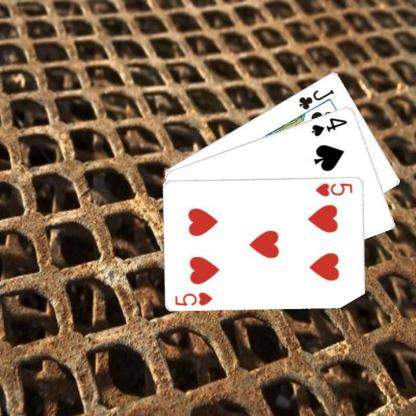4S: (309, 114, 349, 138)
5H: (172, 289, 214, 307), (313, 180, 354, 197)
JC: (296, 86, 335, 111)
